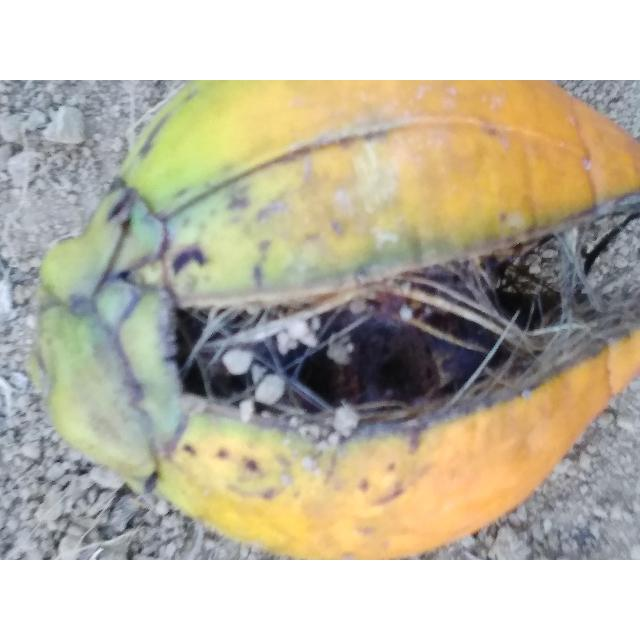damaged: (30, 80, 640, 560)
